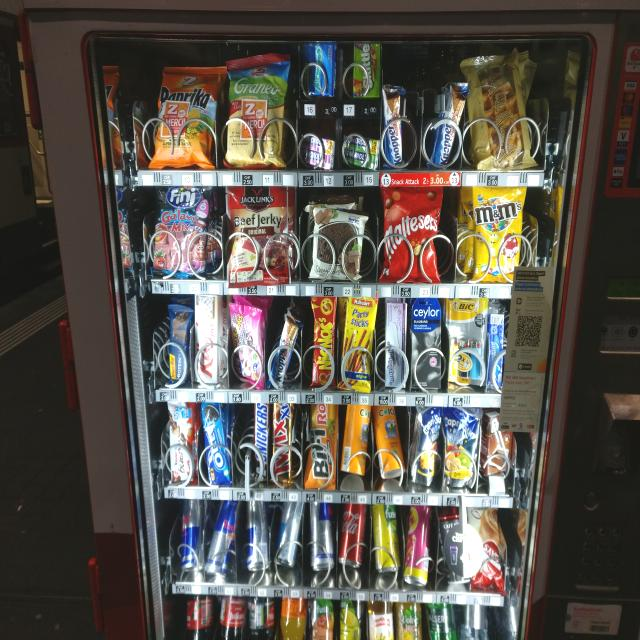7days_croissantschoko_packung_80_1_0000000000003: (472, 504, 506, 592)
airwaves_menthoneucalyptus_riegel_14_1_50173167: (305, 40, 336, 100)
bifi_roll__50__4251097402635: (308, 404, 336, 486)
bueno___43__4008400320328: (166, 399, 198, 483)
c-swiss_dosenabisicetea__33__9120025930135: (372, 405, 406, 476), (342, 401, 371, 480)
caferoyal_classicmacchiato__33__7617014164487: (434, 504, 472, 584)
caprisun_multivitamin__20__4000177605004: (446, 405, 478, 489), (414, 406, 445, 489)
coke__dose_33__54491472: (337, 500, 368, 570)
comella_schokodrink__33__7613100037253: (484, 408, 514, 482)
fini_galaxymix_packung_100_1_8410525150364: (153, 185, 210, 276)
fini_jellykisses_packung_80_1_8410525116704: (228, 303, 266, 387)
fuse_lemon_dose_33__5449000235947: (372, 503, 403, 571)
jacklinks_beefjerkyorginal__25__4047751730219: (224, 184, 292, 285)
jlbrichard_gauffre__90__5410495002000: (468, 61, 538, 167)
kagi___50__7610046000259: (194, 292, 218, 382)
knoppers_riegel____4035800488808: (436, 77, 464, 166), (269, 314, 299, 386), (383, 85, 403, 168)
lorenz_nicnacs__40__4018077798818: (310, 292, 336, 389)
malburner_partysticks__40__7610200279682: (340, 293, 378, 393)
maltesers___100__5000159023061: (381, 186, 443, 281)
mnms_gelb__45__40111445: (469, 180, 524, 284)
oreo___66__84100733: (202, 403, 233, 485)
powerbar_proteinplusschoko__55__4029679520028: (167, 305, 193, 391)
redbull___33__90162909: (207, 498, 240, 576), (308, 498, 336, 573), (243, 499, 270, 571), (274, 502, 304, 566), (180, 496, 204, 570)
skittles_sour_riegel_51_1_0000000000004: (352, 42, 380, 98)
snickers___50__5000159461122: (253, 400, 270, 489)
stimorol_spearmint_riegel_14_1_0000000000005: (341, 131, 377, 172)
stimorol_wildcherry_riegel_14_1_57060330: (301, 132, 333, 171)
tiki_himbeer_brause__50__00000000009342: (402, 504, 436, 591)
twix___50__5000159459228: (270, 400, 296, 490)
zweifel_graneochilli__100__7610095184009: (226, 48, 287, 168)
zweifel_paprika__90__7610095013002: (152, 67, 215, 166)
